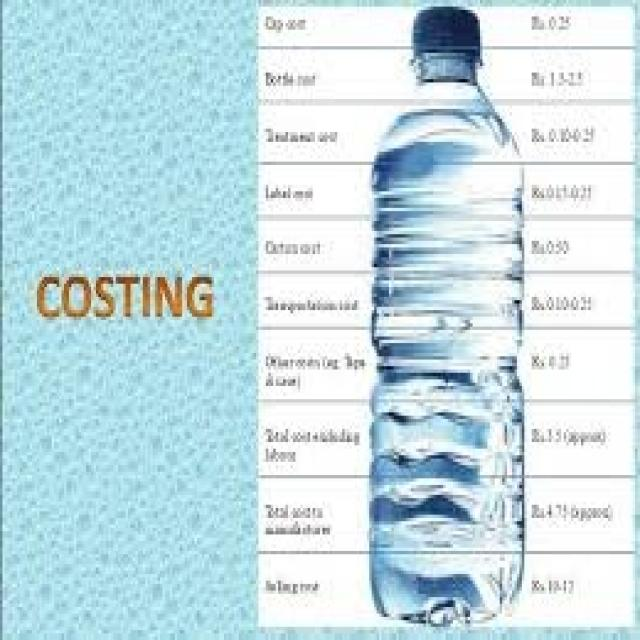bottle: (366, 0, 577, 635)
